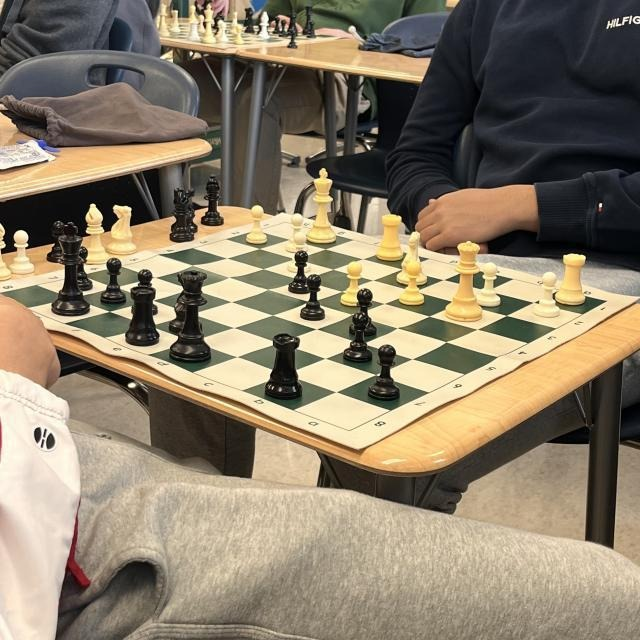black-bishop: (170, 190, 198, 242), (203, 174, 223, 227), (246, 9, 254, 33)
black-king: (52, 222, 91, 317), (286, 10, 297, 36)
black-pawn: (368, 345, 400, 400), (342, 311, 372, 364), (346, 287, 377, 337), (102, 256, 126, 304), (300, 275, 323, 321), (46, 220, 70, 264), (289, 250, 309, 296), (71, 248, 92, 291), (286, 31, 297, 49), (306, 21, 315, 39), (278, 19, 287, 37), (272, 17, 280, 34)
black-queen: (171, 269, 213, 365), (302, 5, 314, 34)
black-rook: (263, 333, 302, 398), (124, 285, 159, 346)
white-bishop: (79, 201, 108, 266), (258, 11, 270, 39)
white-king: (306, 166, 337, 244), (200, 4, 216, 44)
white-knight: (398, 227, 426, 284), (106, 204, 133, 256), (170, 11, 181, 34), (230, 12, 240, 34)
white-pawn: (397, 260, 425, 305), (535, 271, 560, 319), (477, 260, 502, 307), (10, 230, 36, 274), (342, 258, 366, 305), (287, 231, 313, 272), (246, 205, 269, 245), (285, 212, 307, 252), (233, 24, 244, 44), (219, 23, 229, 41), (215, 20, 224, 40), (188, 5, 197, 21), (198, 15, 206, 33)
white-queen: (444, 240, 484, 322), (158, 3, 169, 36)
white-rook: (555, 253, 586, 305), (375, 214, 404, 262), (188, 21, 200, 41)
